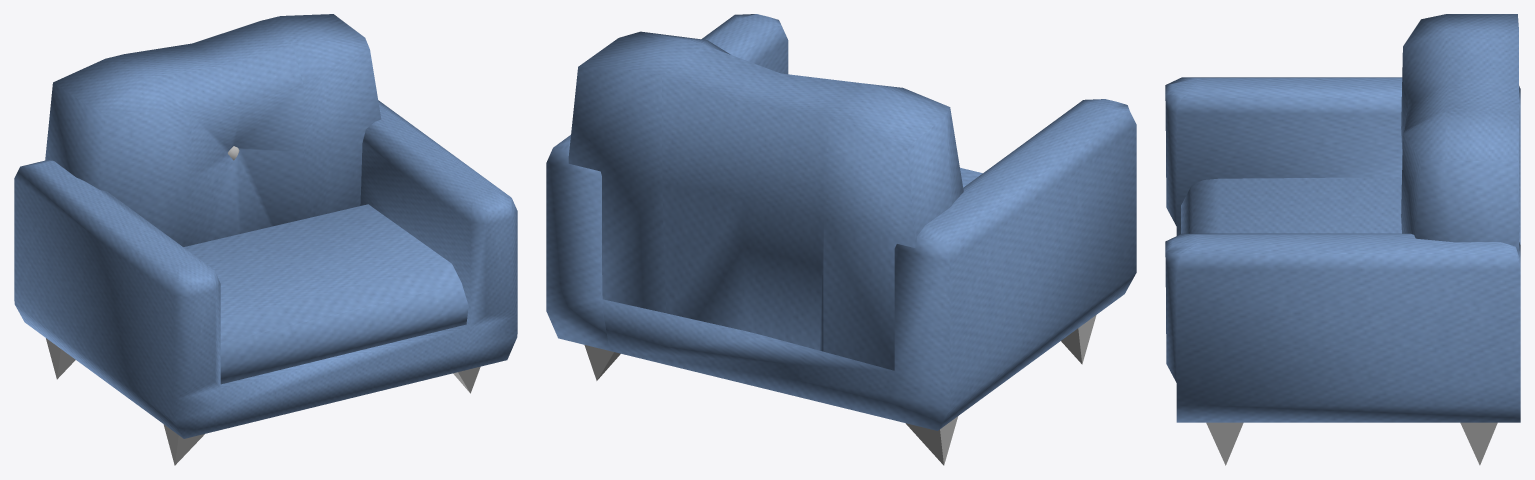
File: Chair_H_3.FBX
3 renders of one model, left to right at view 1: azimuth 30°, elevation 25°; view 2: azimuth 150°, elevation 25°; view 3: azimuth 270°, elevation 25°, orthographic. The views are drawn at different scales.
Visible parts, largest first — view 1: Chair; view 2: Chair; view 3: Chair.
Boxes of the visible parts, x1=… form: Chair: x1=14, y1=14, x2=517, y2=465; Chair: x1=546, y1=14, x2=1136, y2=465; Chair: x1=1165, y1=14, x2=1520, y2=465.
Bounding box in the file's own units: 204 × 167 × 169.
